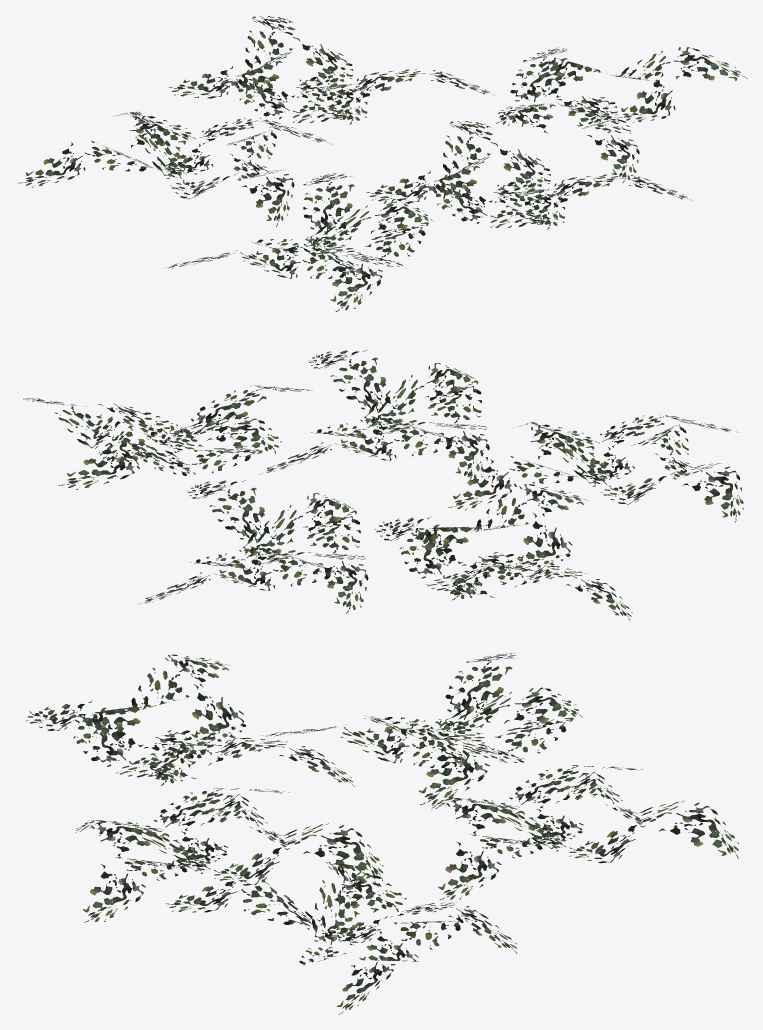
The picture shows the model from 3 angles, top to bottom: view 1: azimuth 30°, elevation 25°; view 2: azimuth 150°, elevation 25°; view 3: azimuth 270°, elevation 25°; orthographic projection. The views are drawn at different scales.
Visible parts, largest first — view 1: Grass01; view 2: Grass01; view 3: Grass01.
Part boxes in pixels (box(x1,y1,x2,y2)): Grass01: box(18, 16, 747, 311); Grass01: box(23, 350, 743, 620); Grass01: box(26, 653, 738, 1014).
Bounding box in the file's own units: 483 × 28.92 × 409.
